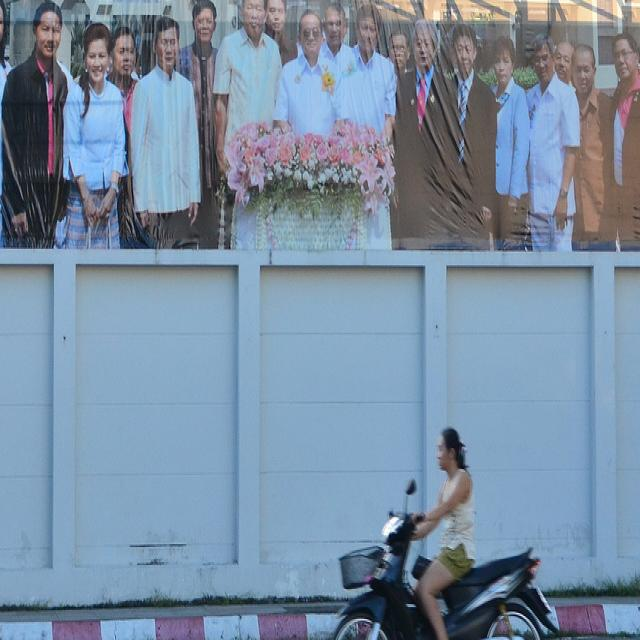motor: (337, 485, 560, 640)
